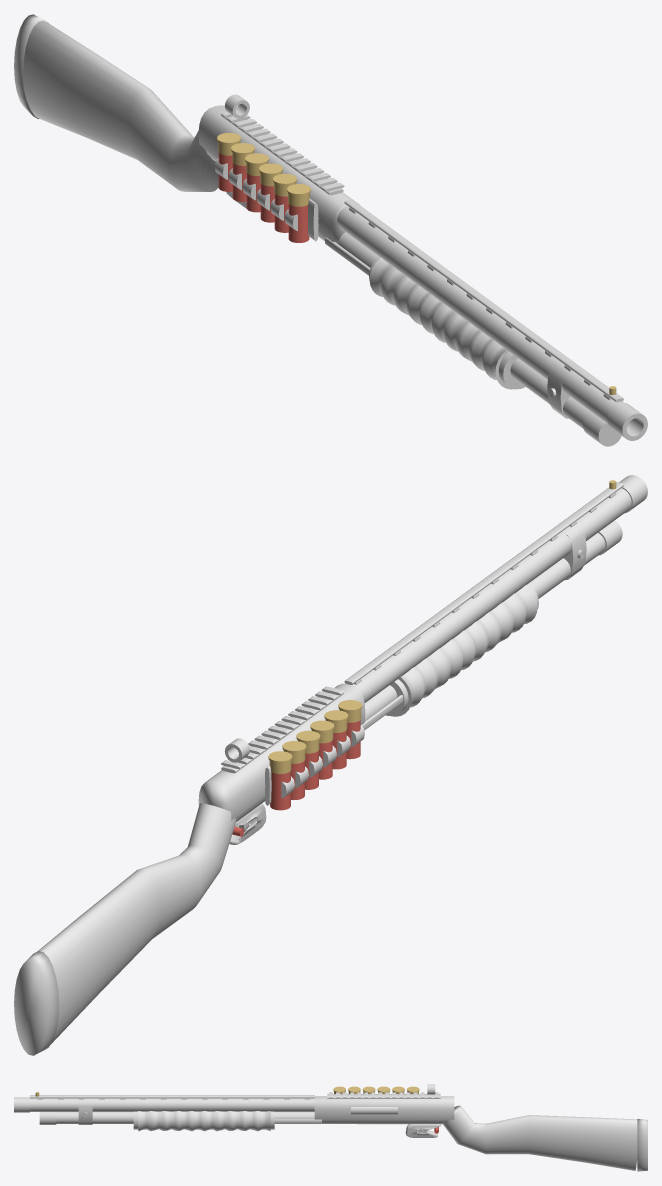
Rendered from Weapon_Shotgun.fbx.
3 renders of one model, top to bottom at view 1: azimuth 30°, elevation 25°; view 2: azimuth 150°, elevation 25°; view 3: azimuth 270°, elevation 25°, orthographic. The views are drawn at different scales.
Parts seen in each view (by area): view 1: Weapon_Shotgun; view 2: Weapon_Shotgun; view 3: Weapon_Shotgun.
Part boxes in pixels (x1,y1,x2,y2): Weapon_Shotgun: (14, 14, 647, 446); Weapon_Shotgun: (14, 475, 647, 1055); Weapon_Shotgun: (14, 1084, 647, 1171).
Size of the model in its own units: 0.0591 by 1.08 by 0.1624.
